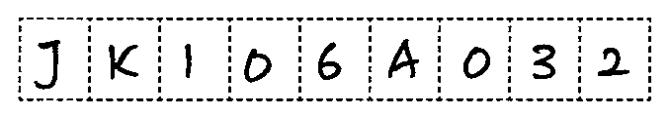0: (455, 41, 499, 86), (239, 46, 280, 86)
1: (171, 38, 206, 86)
2: (591, 40, 635, 83)
3: (523, 40, 562, 86)
6: (313, 38, 348, 86)
A: (383, 35, 424, 84)
J: (28, 36, 69, 94)
K: (103, 40, 144, 82)
